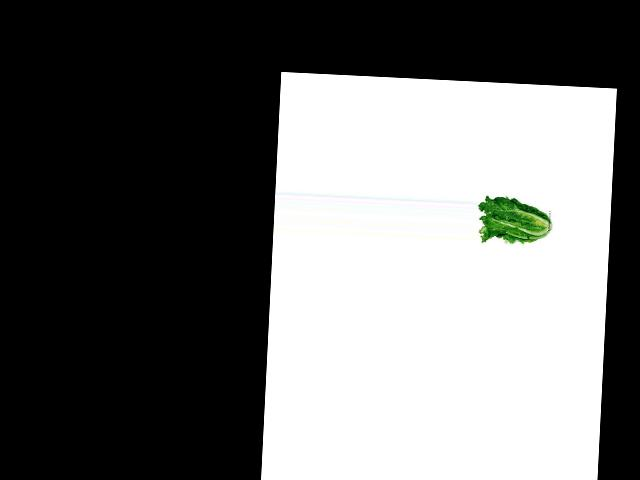lettuce: (476, 195, 551, 247)
